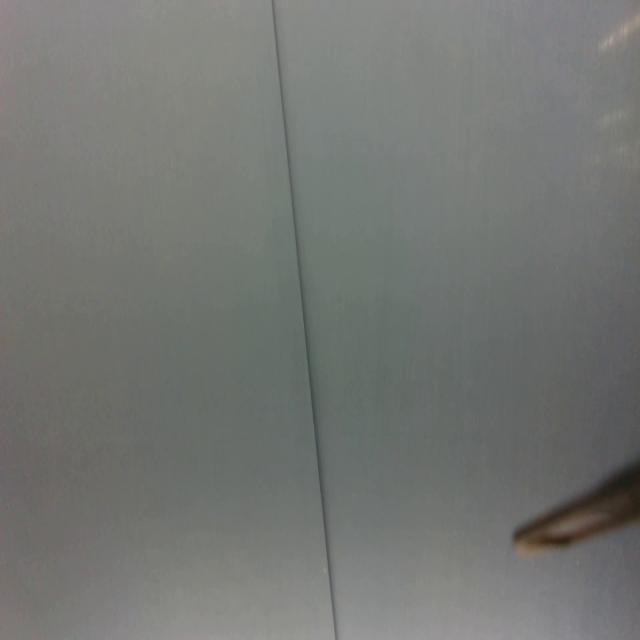crease: (270, 0, 339, 639)
